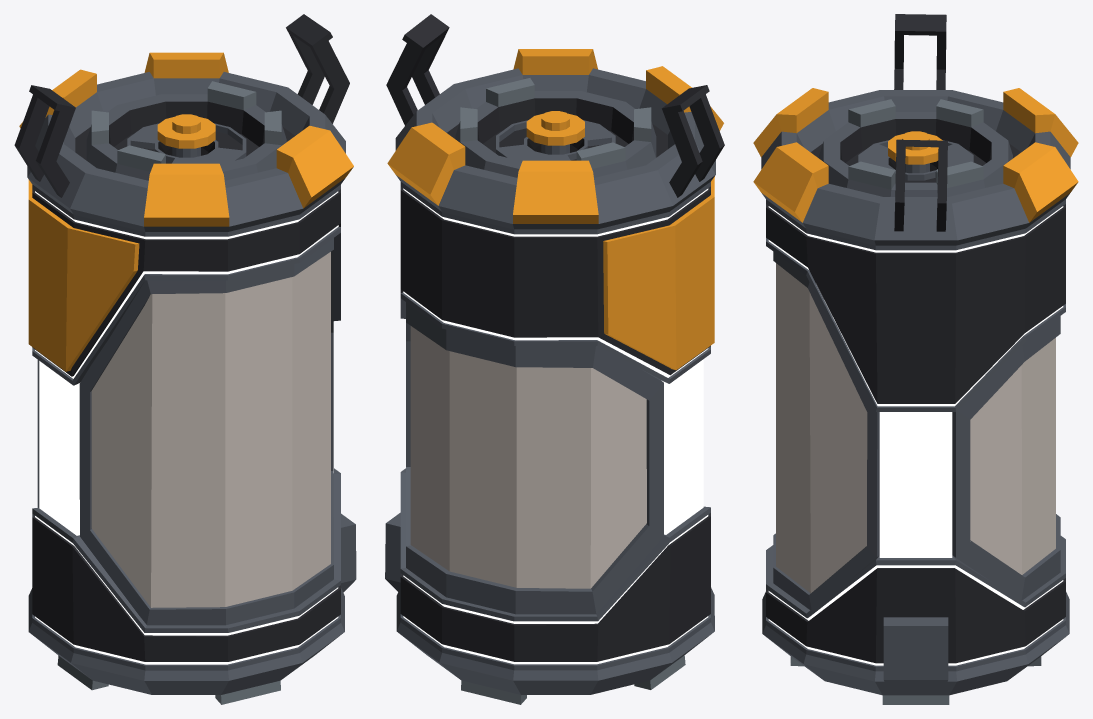
Rendered from SM_Barrel_Water.glb.
3 views of the same model, side by side, from view 1: azimuth 30°, elevation 25°; view 2: azimuth 150°, elevation 25°; view 3: azimuth 270°, elevation 25° (orthographic). The views are drawn at different scales.
Parts seen in each view (by area): view 1: SM_Barrel_Water; view 2: SM_Barrel_Water; view 3: SM_Barrel_Water.
Part boxes in pixels (x1=…): SM_Barrel_Water: x1=14, y1=14, x2=356, y2=704; SM_Barrel_Water: x1=385, y1=14, x2=724, y2=704; SM_Barrel_Water: x1=753, y1=14, x2=1078, y2=704.
Bounding box in the file's own units: 0.6 × 1.1 × 0.5609.
Materials: 2 (1 with a texture image).
